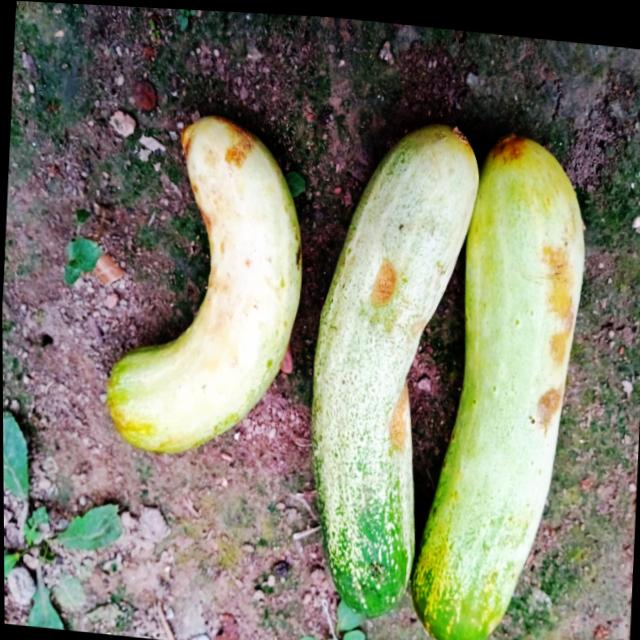Belly-Rot: (526, 235, 584, 435), (177, 112, 264, 242), (364, 248, 401, 322), (386, 363, 412, 463)
